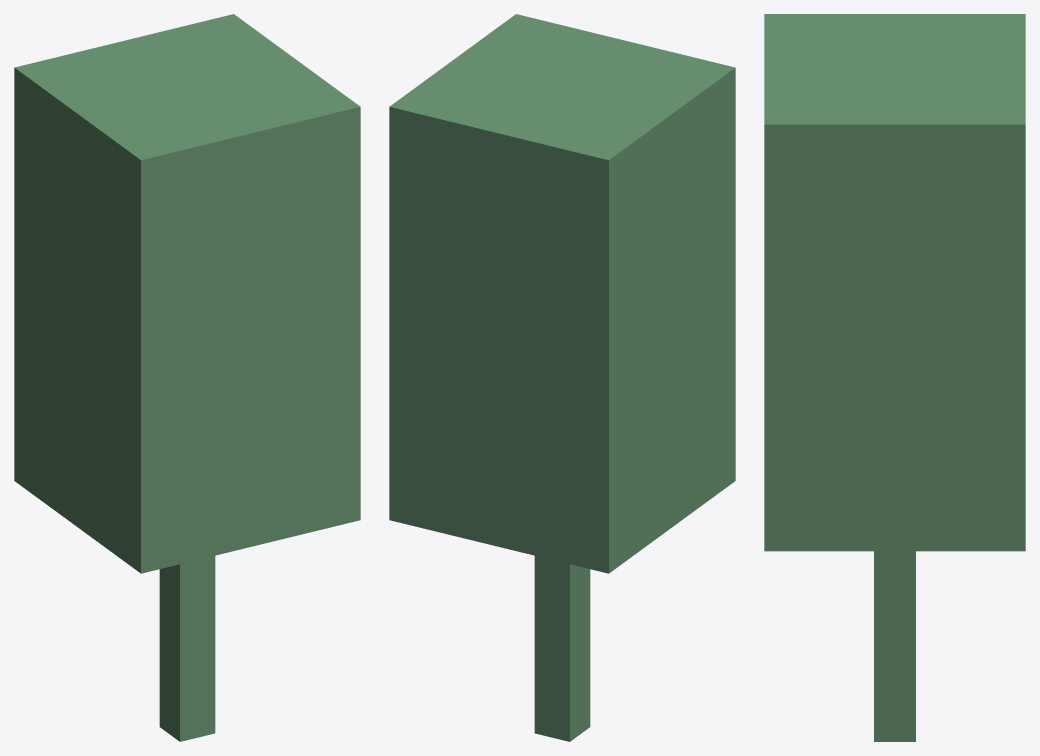
Rendered from snow_pine.glb.
3 views of the same model, side by side, from view 1: azimuth 30°, elevation 25°; view 2: azimuth 150°, elevation 25°; view 3: azimuth 270°, elevation 25° (orthographic). The views are drawn at different scales.
Parts seen in each view (by area): view 1: snow_pine; view 2: snow_pine; view 3: snow_pine.
Boxes of the visible parts, box(x1,y1,x2,y2) form: snow_pine: box(14, 14, 360, 741); snow_pine: box(389, 14, 735, 741); snow_pine: box(764, 14, 1025, 741).
Size of the model in its own units: 2.5 by 7 by 2.5.
